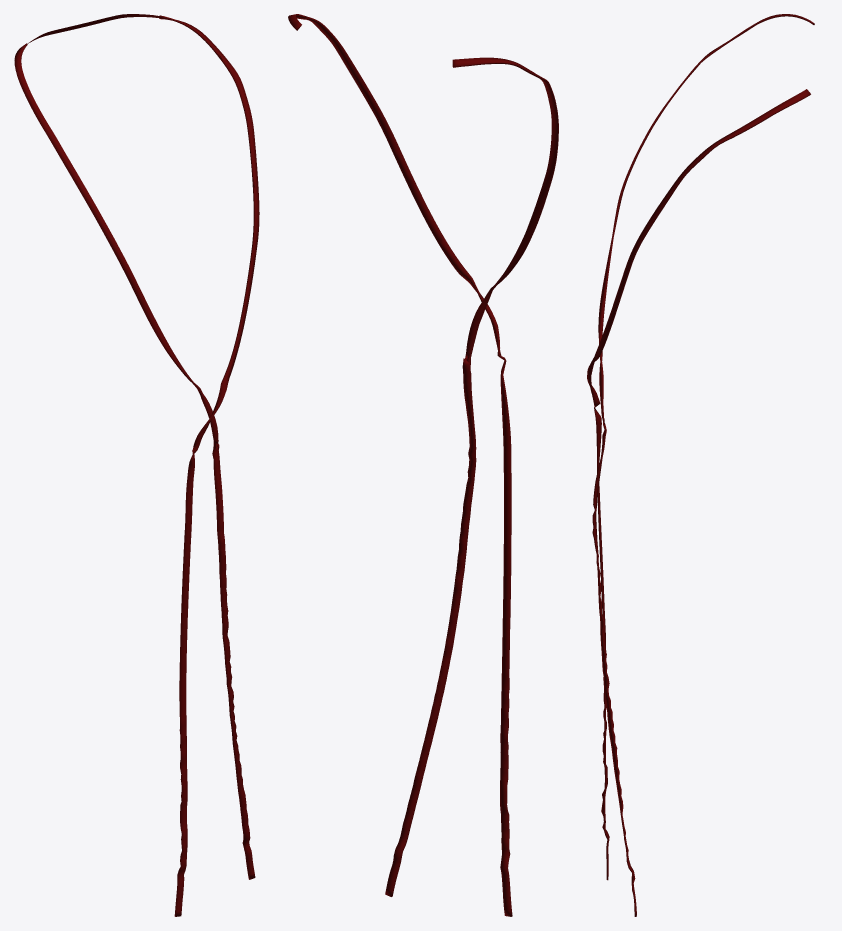
Rendered from trim.glb.
The picture shows the model from 3 angles, left to right: view 1: azimuth 30°, elevation 25°; view 2: azimuth 150°, elevation 25°; view 3: azimuth 270°, elevation 25°; orthographic projection. The views are drawn at different scales.
Parts seen in each view (by area): view 1: trim.002; view 2: trim.002; view 3: trim.002.
Part boxes in pixels (x1,y1,x2,y2): trim.002: (14, 14, 259, 916); trim.002: (288, 14, 558, 916); trim.002: (587, 14, 814, 916).
Bounding box in the file's own units: 0.6713 × 2.63 × 0.6903.
